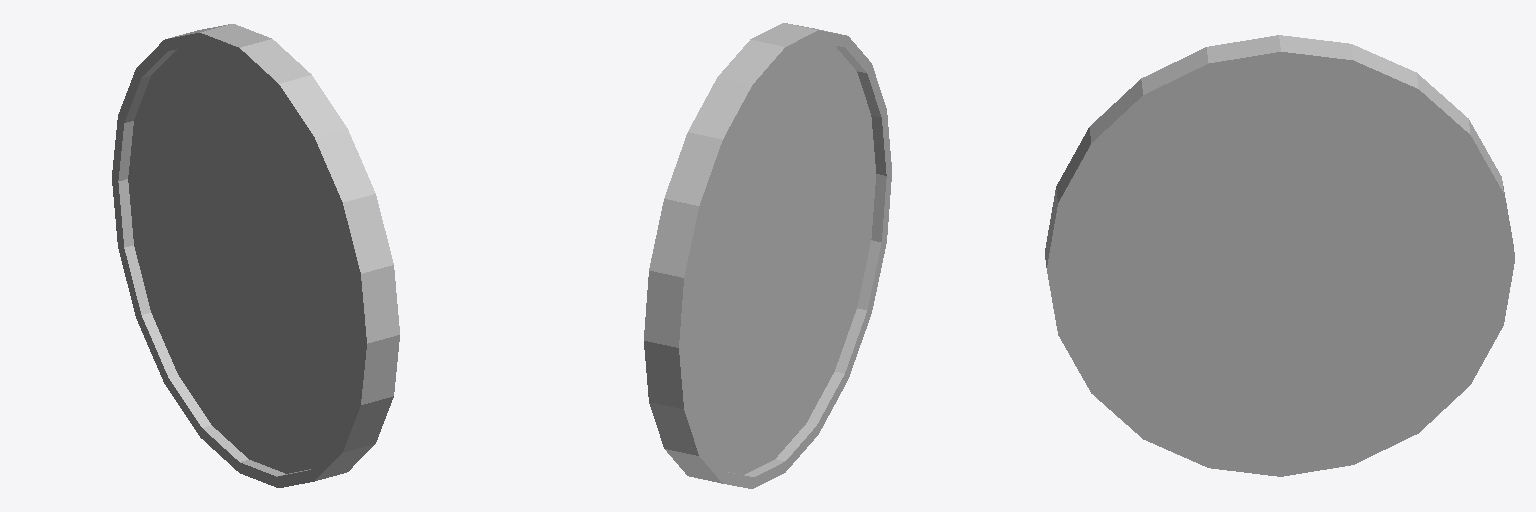
The model's file is coin 2.obj.
3 renders of one model, left to right at view 1: azimuth 30°, elevation 25°; view 2: azimuth 150°, elevation 25°; view 3: azimuth 270°, elevation 25°, orthographic.
Parts seen in each view (by area): view 1: pCylinder1; view 2: pCylinder1; view 3: pCylinder1.
Part boxes in pixels (bbox=[...]): pCylinder1: bbox=[112, 24, 399, 487]; pCylinder1: bbox=[644, 23, 891, 488]; pCylinder1: bbox=[1045, 35, 1514, 476].
Size of the model in its own units: 0.2715 by 2 by 2.01.